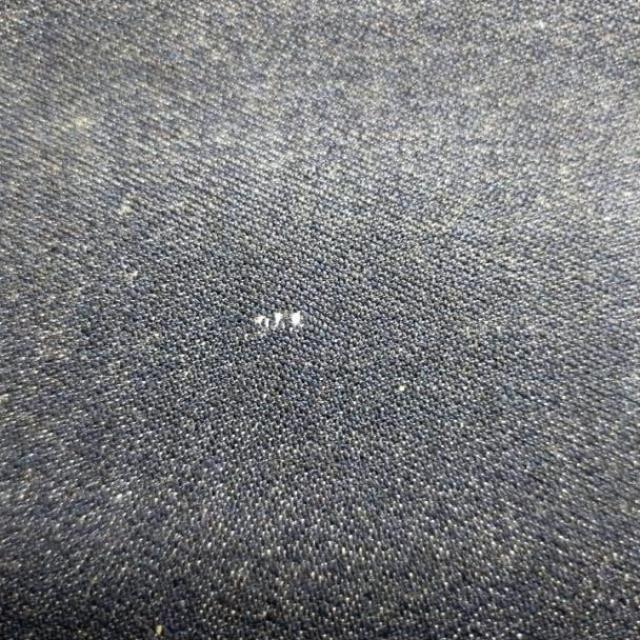Knot: (253, 312, 303, 330)
